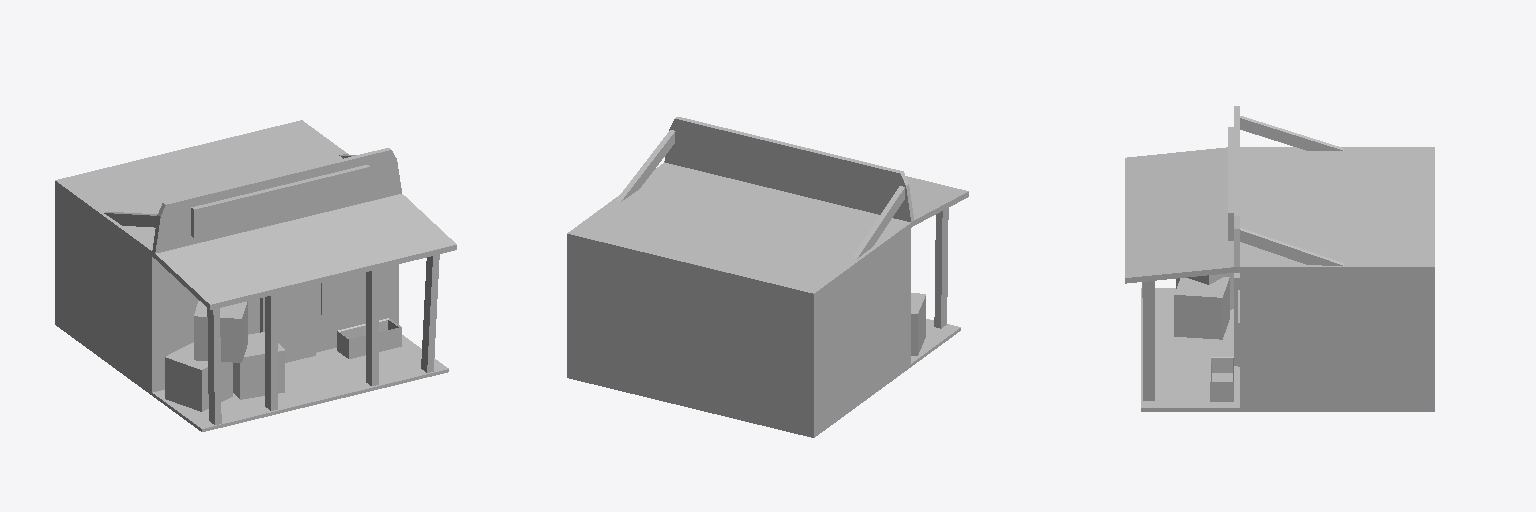
Rendered from hardware_st.obj.
3 views of the same model, side by side, from view 1: azimuth 30°, elevation 25°; view 2: azimuth 150°, elevation 25°; view 3: azimuth 270°, elevation 25° (orthographic).
Parts seen in each view (by area): view 1: building, beams, front_sign, display_crate_1, door, display_crate_3, display_crate_2, sale_sign, tool_bin, sign_support_1; view 2: building, beams, sign_support_2, sign_support_1, display_crate_1; view 3: building, display_crate_2, beams, sign_support_2, sign_support_1, tool_bin, front_sign.
Part boxes in pixels (x1,y1,x2,y2): building: (55, 120, 456, 431); beams: (207, 254, 439, 424); front_sign: (191, 165, 369, 237); display_crate_1: (165, 342, 232, 411); door: (260, 285, 315, 362); display_crate_3: (194, 301, 247, 362); display_crate_2: (233, 332, 284, 399); sale_sign: (321, 266, 390, 315); tool_bin: (337, 318, 401, 358); sign_support_1: (104, 212, 157, 227); building: (567, 117, 968, 437); beams: (934, 208, 948, 328); sign_support_2: (616, 130, 675, 201); sign_support_1: (852, 186, 904, 259); display_crate_1: (911, 293, 925, 355); building: (1125, 106, 1434, 411); display_crate_2: (1174, 277, 1229, 339); beams: (1142, 281, 1154, 400); sign_support_2: (1240, 228, 1343, 265); sign_support_1: (1240, 116, 1343, 150); tool_bin: (1210, 357, 1233, 401); front_sign: (1228, 127, 1233, 240).
Size of the model in its own units: 1.47 by 1.08 by 1.59.